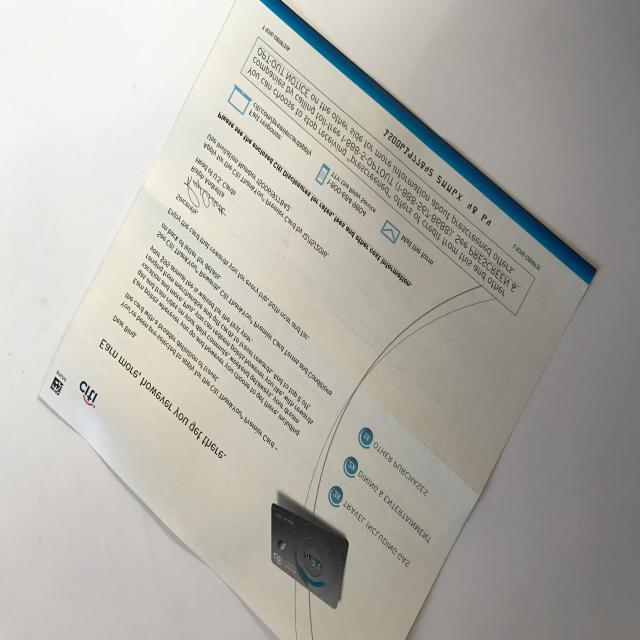paper: (32, 0, 603, 640)
